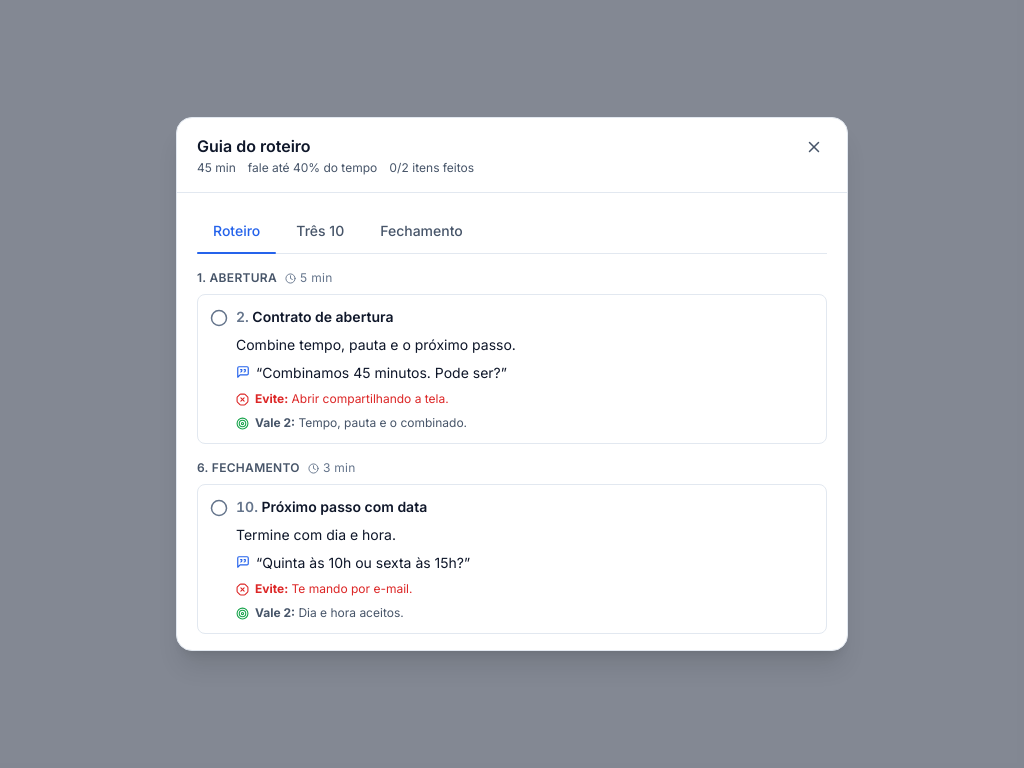
Test case: GuiaRoteiro › aba Três 10 mostra as certezas e as perguntas de calibração
Check: the text "Contrato de abertura" is shown, box [252, 308, 394, 325]
Click the tab with test id "tab-guia-tres-dez" at (320, 231), box [280, 209, 360, 253]
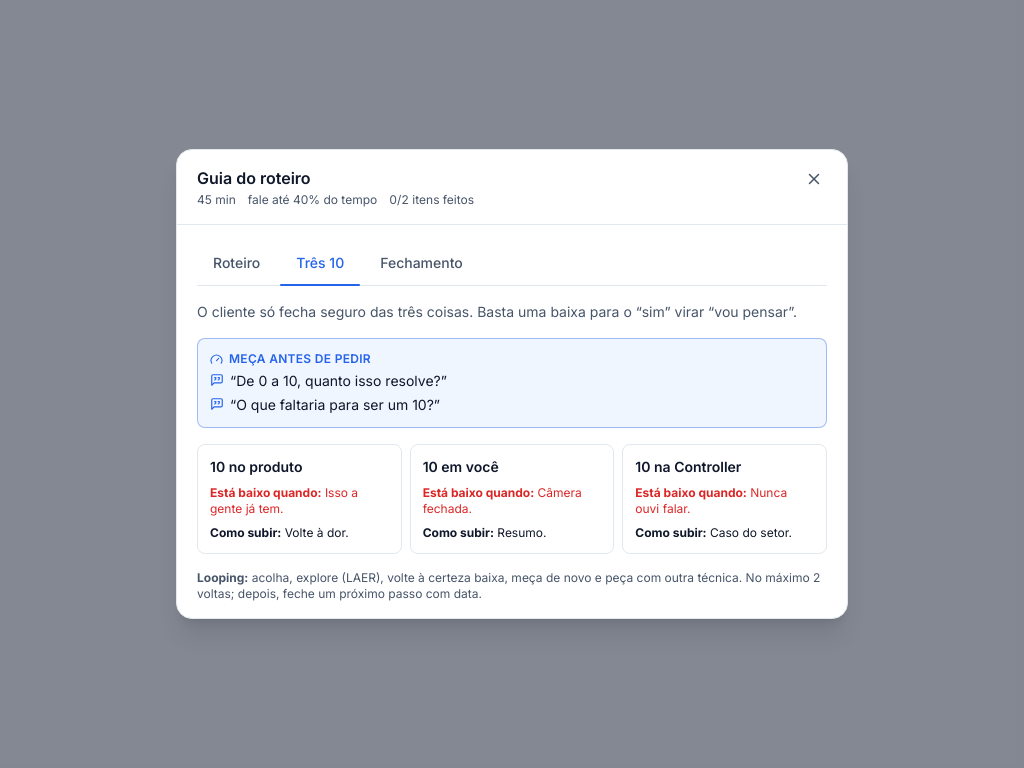
Check: the text "10 no produto" is shown, box [210, 458, 302, 475]
Check: the text "10 em você" is shown, box [423, 458, 499, 475]
Check: the text "10 na Controller" is shown, box [635, 458, 741, 475]
